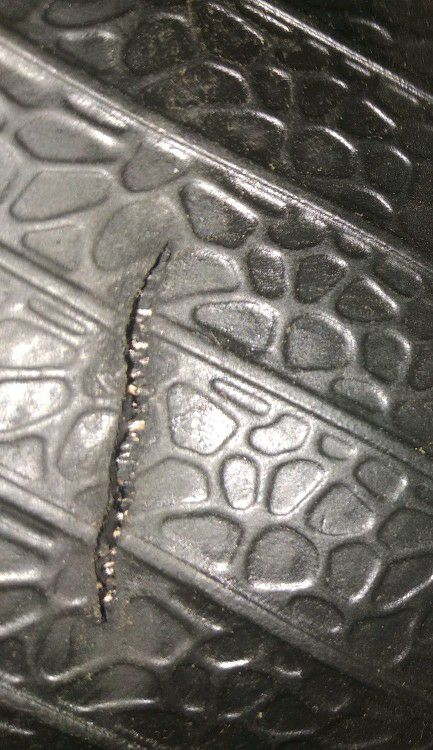cut: (91, 236, 180, 634)
